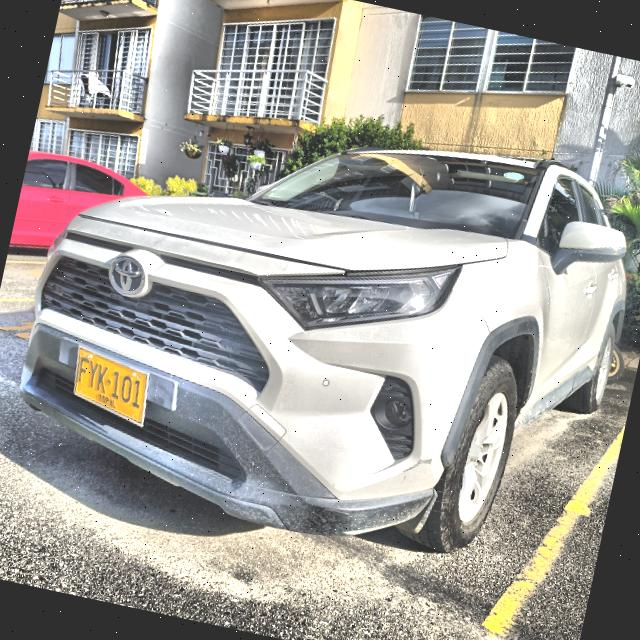0: (119, 374, 133, 405)
1: (130, 378, 143, 409), (109, 369, 120, 401)
F: (77, 354, 90, 384)
K: (94, 363, 110, 394)
Y: (86, 359, 99, 389)
